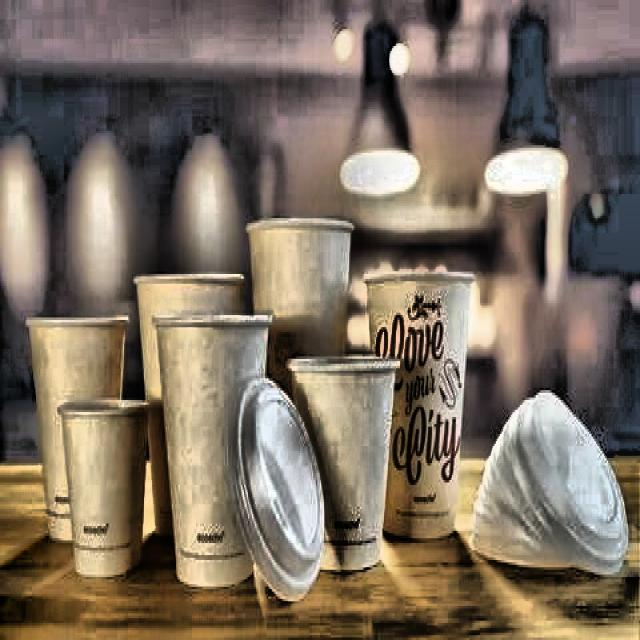Cup: (240, 204, 358, 515), (360, 249, 480, 544), (154, 311, 274, 593), (136, 262, 252, 552), (20, 308, 124, 550), (287, 348, 400, 567), (58, 401, 154, 586)
